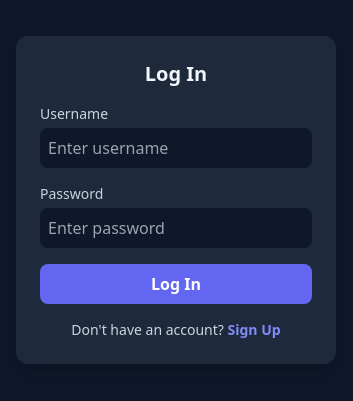
Test: LoginForma component › shows validation errors for empty login form
Click the button "Log In".
click(176, 284)  # box [40, 264, 312, 304]
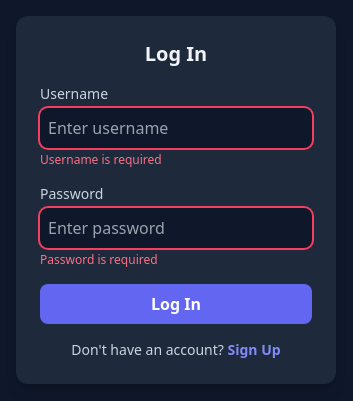
Expected: the text "Username is required" is shown, [40, 151, 162, 168]
Expected: the text "Password is required" is shown, [40, 251, 158, 268]
